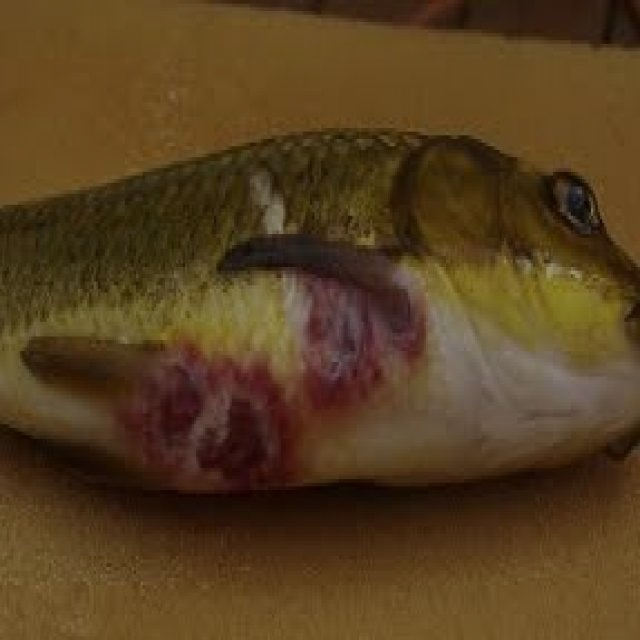EUS Disease: (0, 124, 640, 512), (84, 167, 477, 500)
